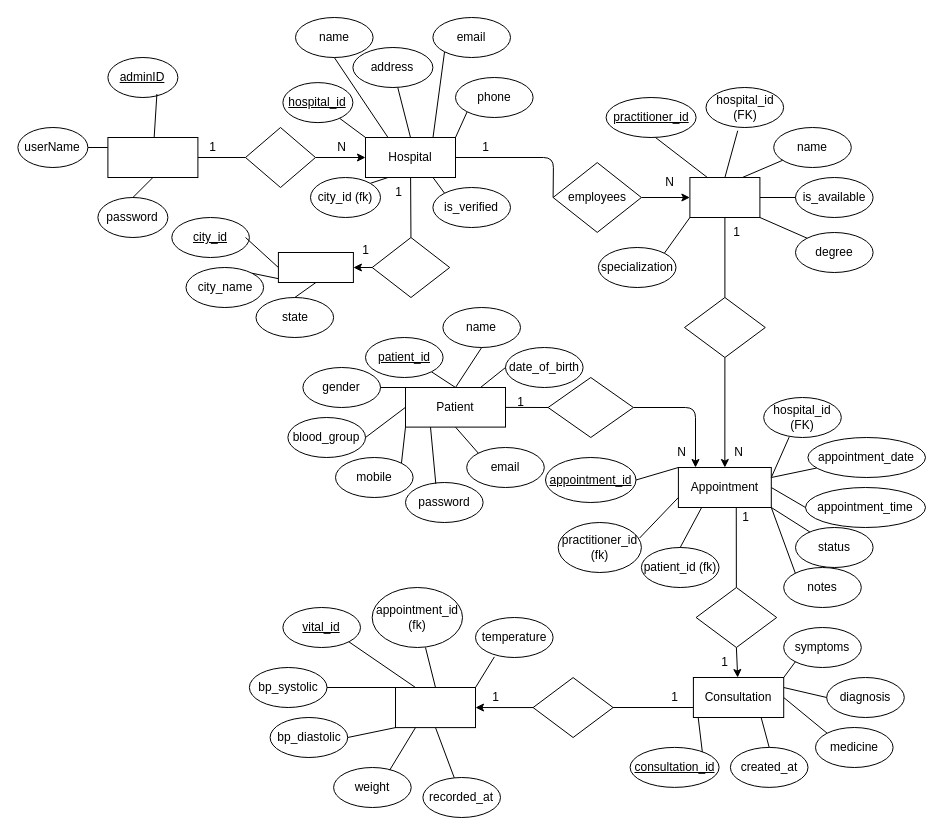
Some shapes in this 943 by 835 pixel diagram are drawn without their labels. Each missing label, with the centre of its shape:
"Admin" belongs at (x=152, y=157).
"belongs to" belongs at (x=410, y=267).
"City" belongs at (x=315, y=267).
"Doctor" belongs at (x=724, y=197).
"generates" belongs at (x=736, y=617).
"manages" belongs at (x=724, y=327).
"records" belongs at (x=572, y=707).
"schedules" belongs at (x=590, y=407).
"verifies" belongs at (x=280, y=157).
"Vitals" belongs at (x=435, y=707).
